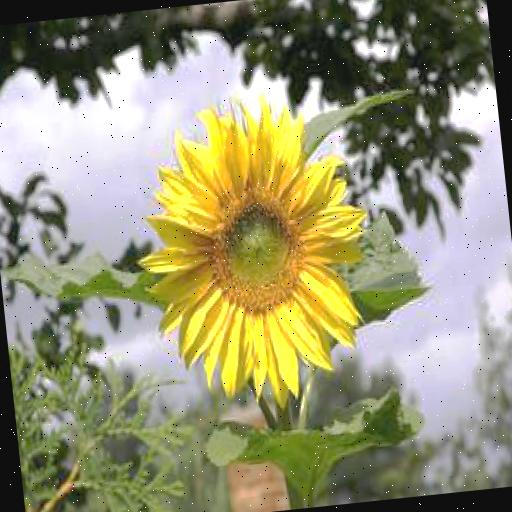sunflower: (133, 86, 380, 416)
